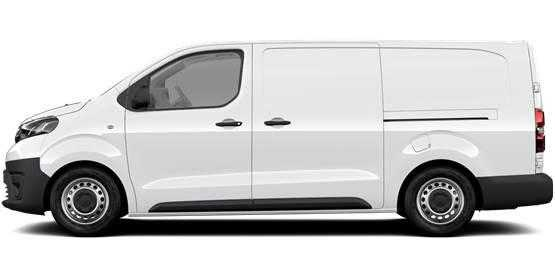van: (4, 38, 551, 237)
